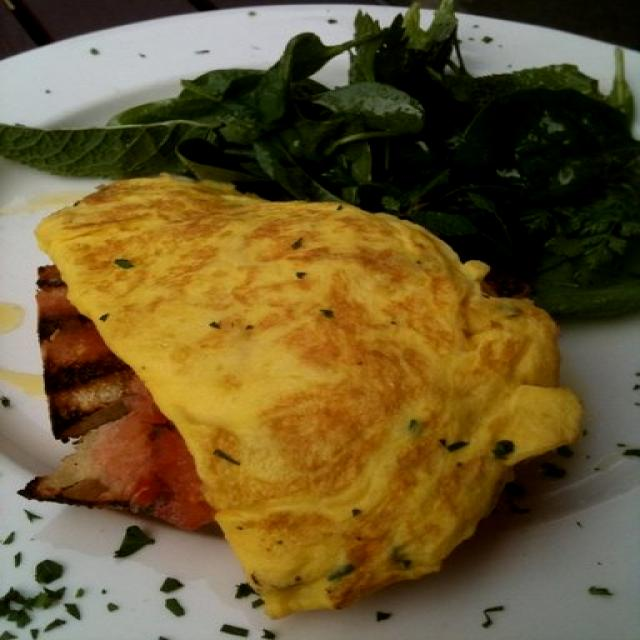omelette: (27, 165, 594, 630)
